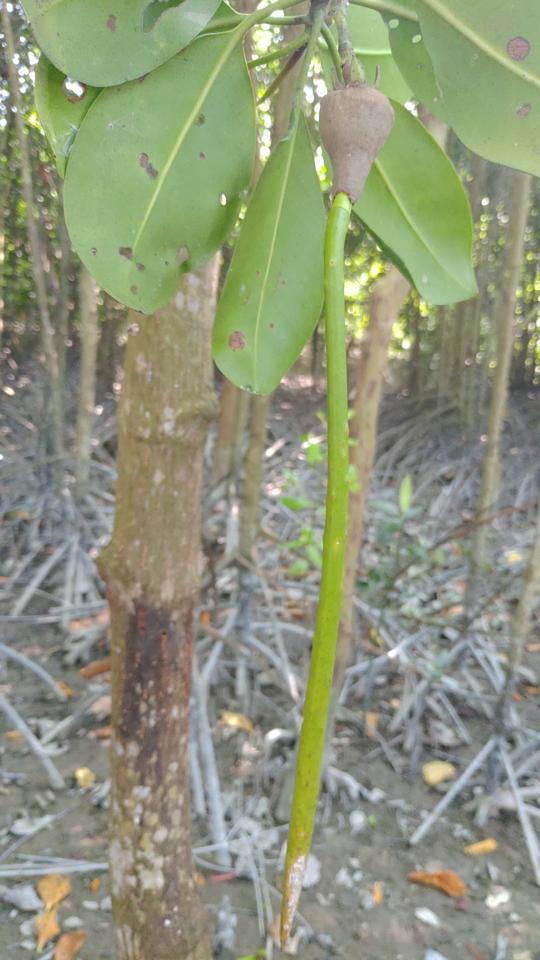setengah matang: (270, 59, 401, 955)
